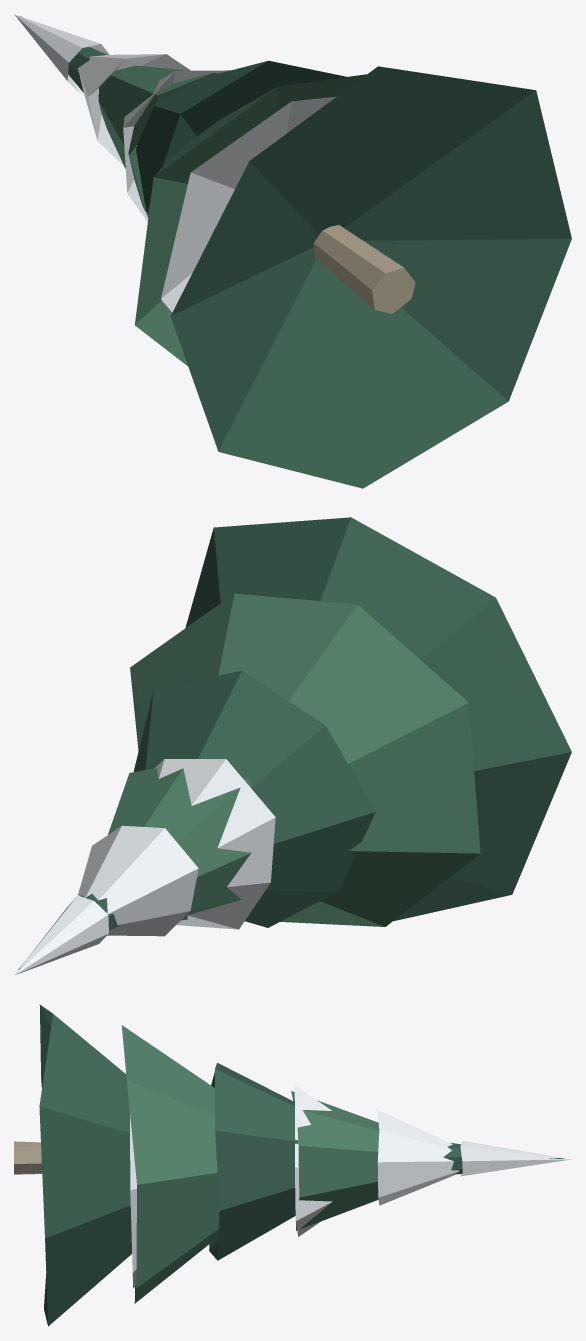
Rendered from TreeConiferC2.fbx.
3 views of the same model, one above another, from view 1: azimuth 30°, elevation 25°; view 2: azimuth 150°, elevation 25°; view 3: azimuth 270°, elevation 25° (orthographic). The views are drawn at different scales.
Visible parts, largest first — view 1: M_Tree_Pine_Dark, M_Tree_Pine_Mid, M_Tree_Snow, M_Tree_PaleWood; view 2: M_Tree_Pine_Dark, M_Tree_Pine_Mid, M_Tree_Snow; view 3: M_Tree_Pine_Dark, M_Tree_Pine_Mid, M_Tree_Snow, M_Tree_PaleWood.
Part boxes in pixels (<box>): M_Tree_Pine_Dark: <box>20,16,571,488</box>; M_Tree_Pine_Mid: <box>98,65,366,365</box>; M_Tree_Snow: <box>14,14,336,312</box>; M_Tree_PaleWood: <box>313,225,415,313</box>; M_Tree_Pine_Dark: <box>18,517,571,969</box>; M_Tree_Pine_Mid: <box>108,593,480,926</box>; M_Tree_Snow: <box>14,759,275,975</box>; M_Tree_Pine_Dark: <box>39,1004,563,1326</box>; M_Tree_Pine_Mid: <box>121,1025,379,1303</box>; M_Tree_Snow: <box>130,1085,571,1288</box>; M_Tree_PaleWood: <box>14,1141,42,1174</box>.
Bounding box in the file's own units: 2295 × 2239 × 3736.
